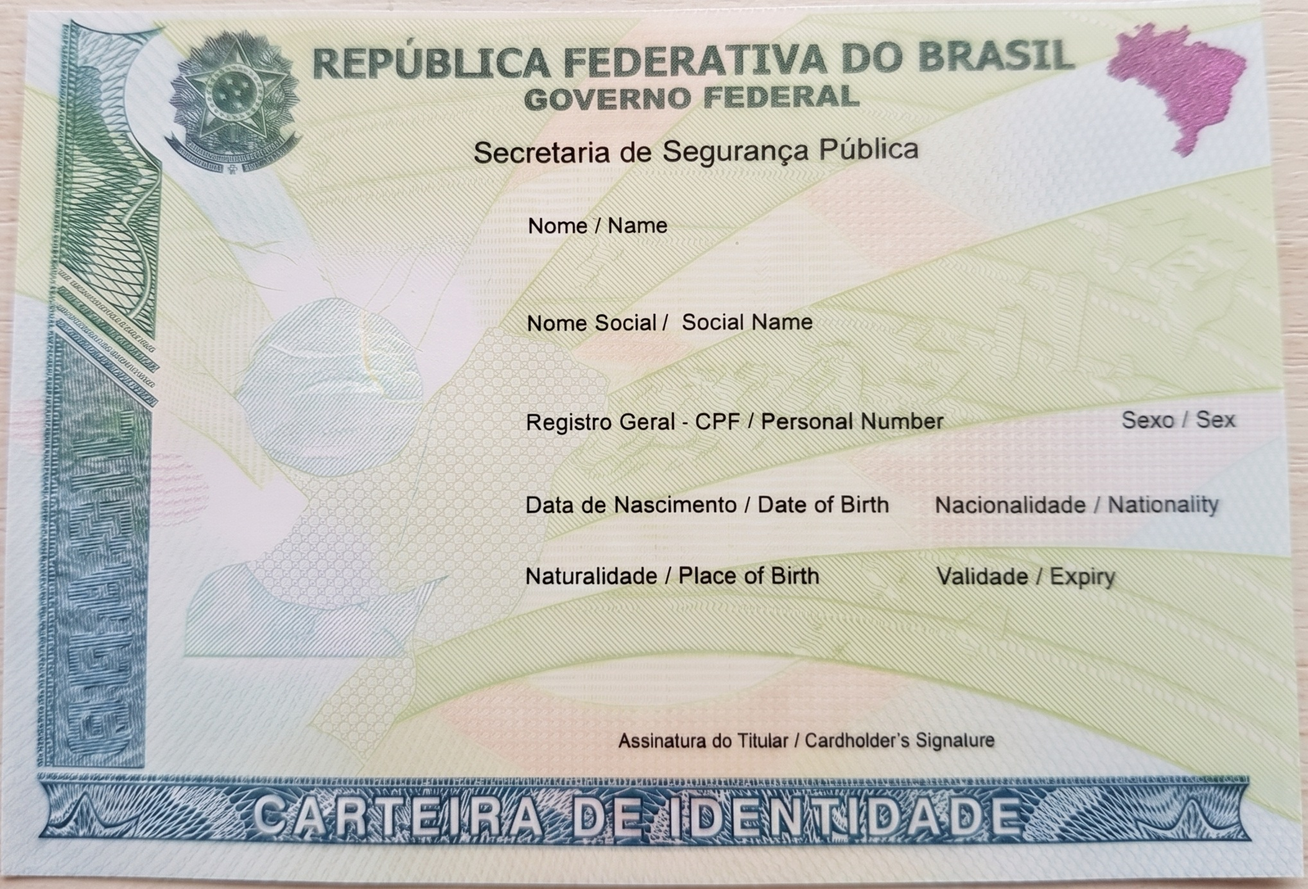cpf: (520, 436, 982, 494)
date_of_birth: (519, 517, 914, 563)
expirity: (932, 589, 1284, 646)
imagem: (175, 216, 505, 662)
name: (523, 238, 1224, 310)
nationality: (933, 519, 1280, 565)
naturality: (521, 590, 916, 644)
sex: (1119, 434, 1252, 492)
